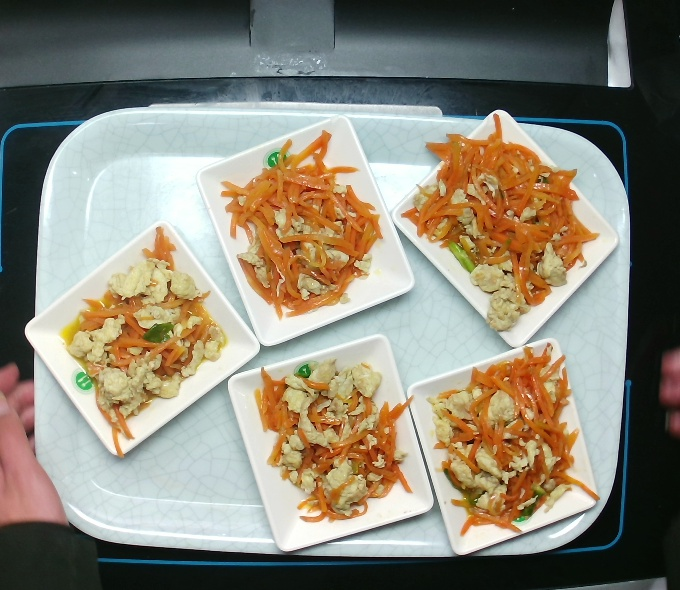wcq-HuLuoBoChaoDan: (410, 128, 593, 325), (55, 235, 220, 427), (223, 130, 386, 307), (425, 347, 582, 526), (257, 357, 403, 523)
